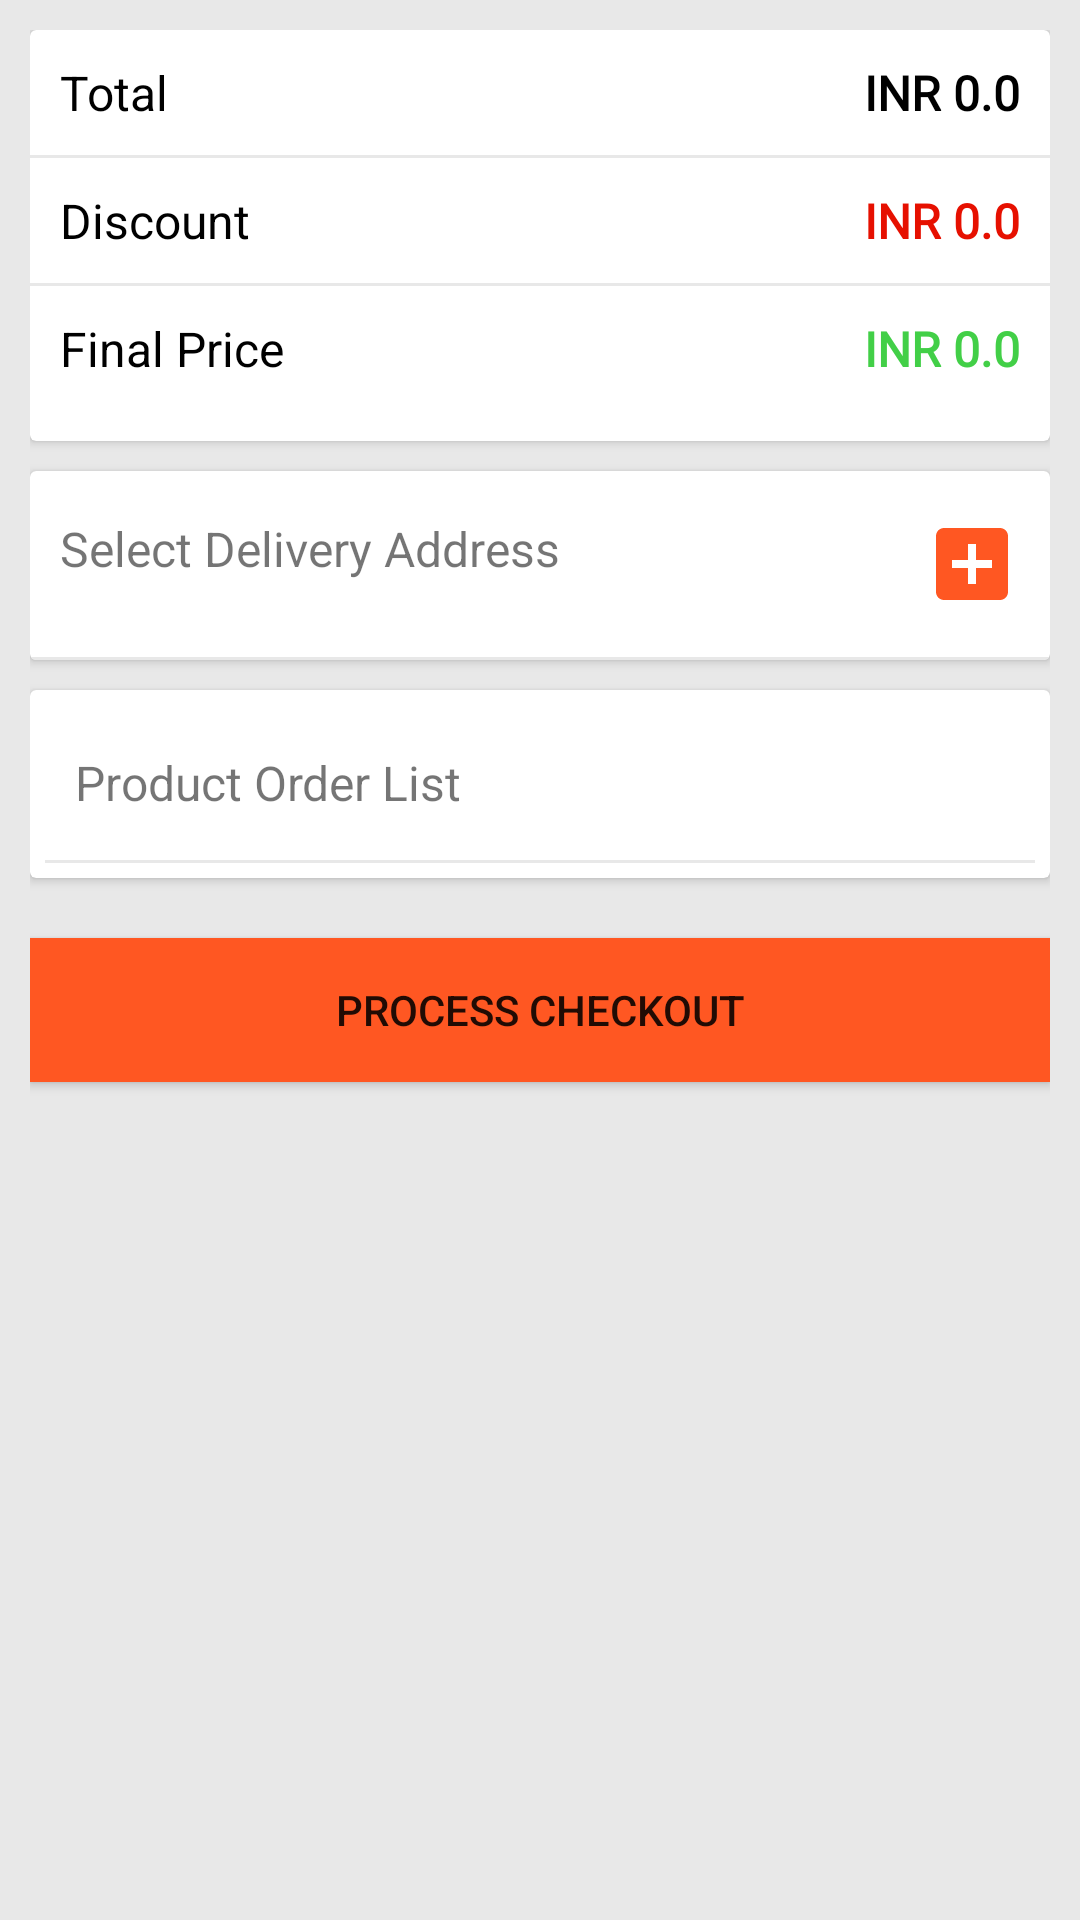

Where icons sit on this 1080 × 1920 app screen, as (x1, y1, x2, y2):
add: (936, 528, 1008, 600)
